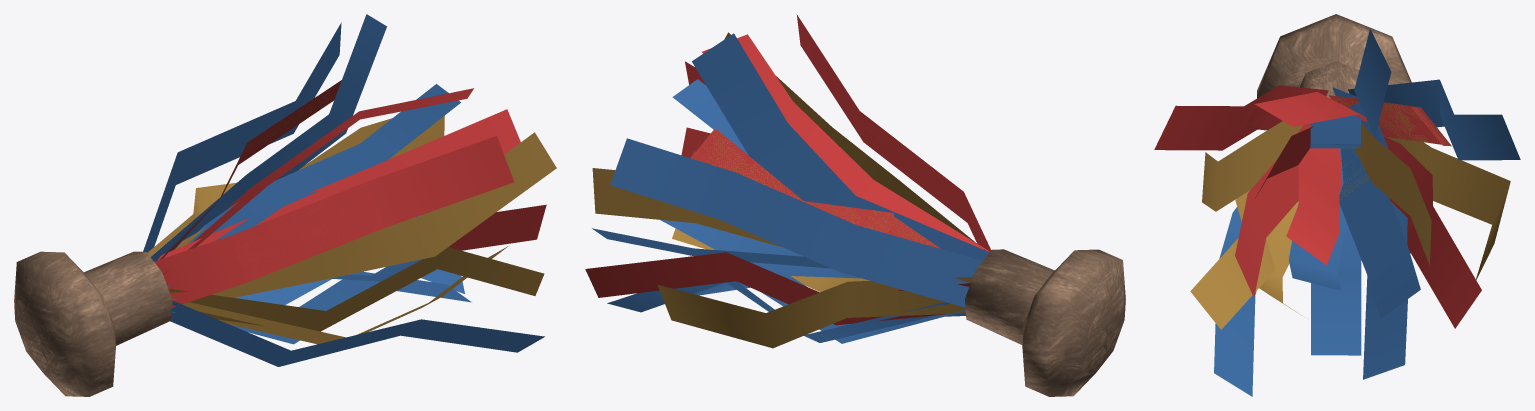
File: jegi_001.fbx
3 views of the same model, side by side, from view 1: azimuth 30°, elevation 25°; view 2: azimuth 150°, elevation 25°; view 3: azimuth 270°, elevation 25° (orthographic).
Parts seen in each view (by area): view 1: jegi_001; view 2: jegi_001; view 3: jegi_001.
Boxes of the visible parts, box(x1,y1,x2,y2) form: jegi_001: box(14, 14, 556, 396); jegi_001: box(585, 14, 1125, 396); jegi_001: box(1154, 14, 1520, 396).
Size of the model in its own units: 36.36 by 23.4 by 24.1.
